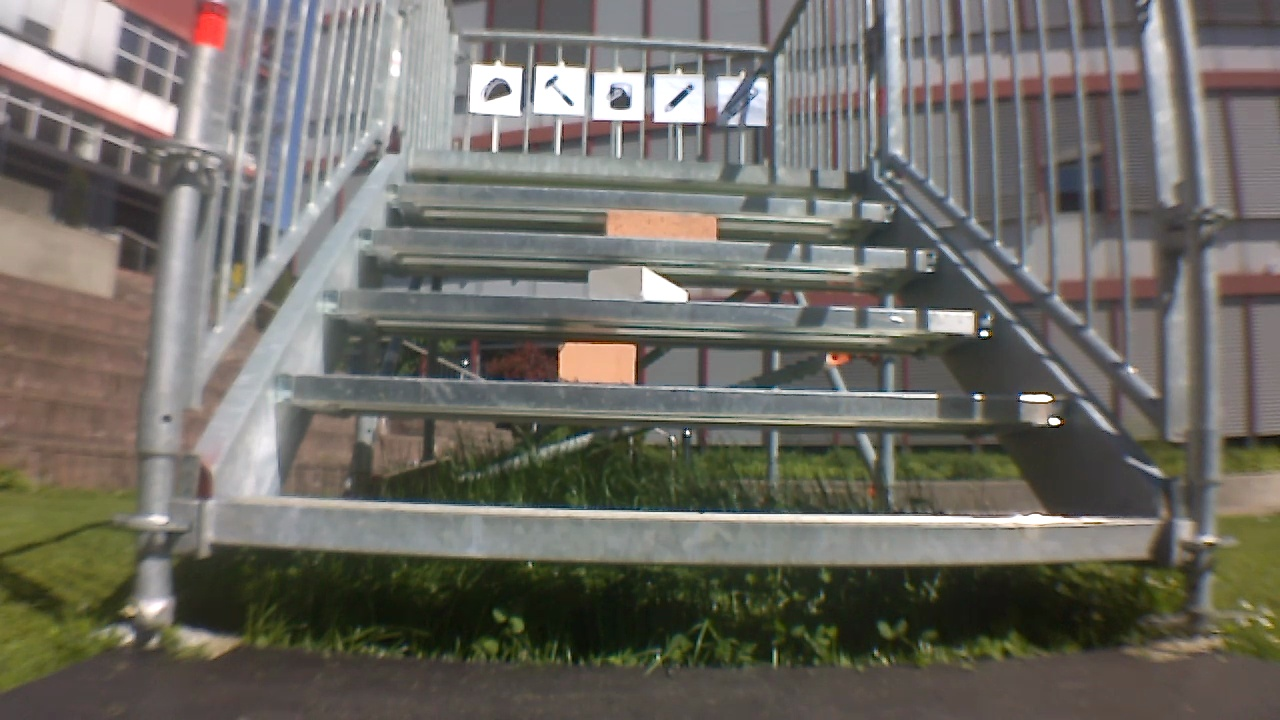brick: (586, 262, 693, 300), (554, 342, 638, 385), (598, 211, 718, 239)
edge: (189, 497, 1174, 554), (260, 374, 1074, 433), (319, 292, 996, 337), (356, 232, 942, 272), (376, 182, 905, 224), (391, 150, 873, 186)
stairs: (131, 0, 1204, 653)
steps: (165, 165, 1173, 562)
